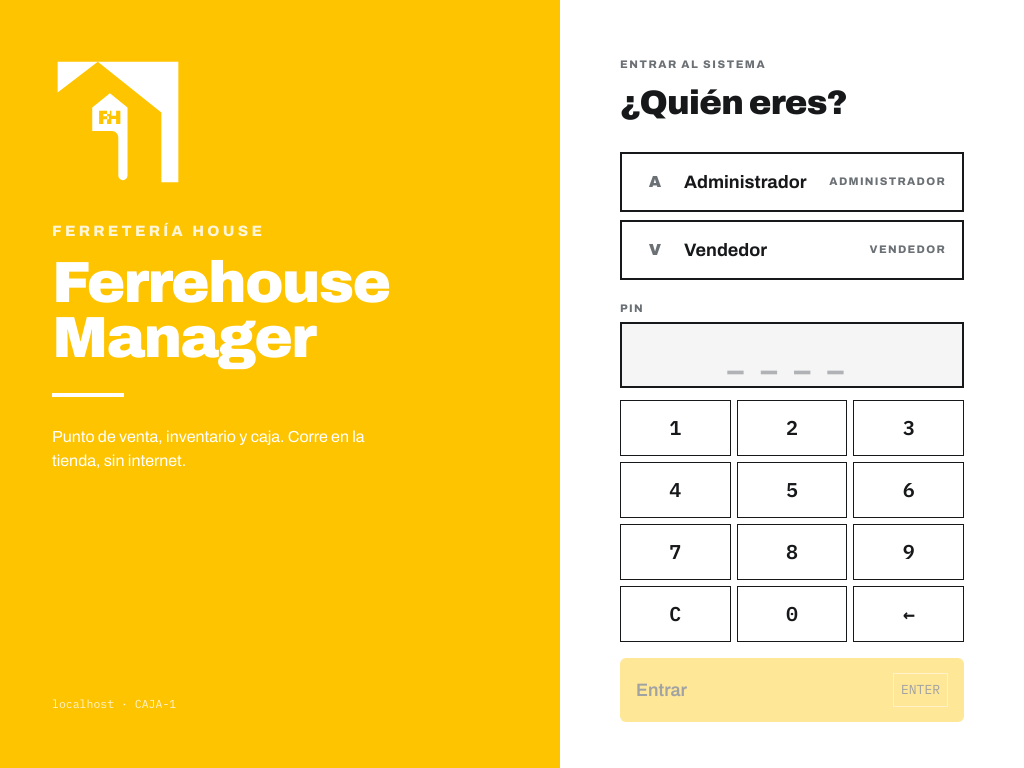
Test: el PIN › ignora lo que no sea dígito
Click the button "A Administrador administrador" at x=792, y=182, box [620,152,964,212]
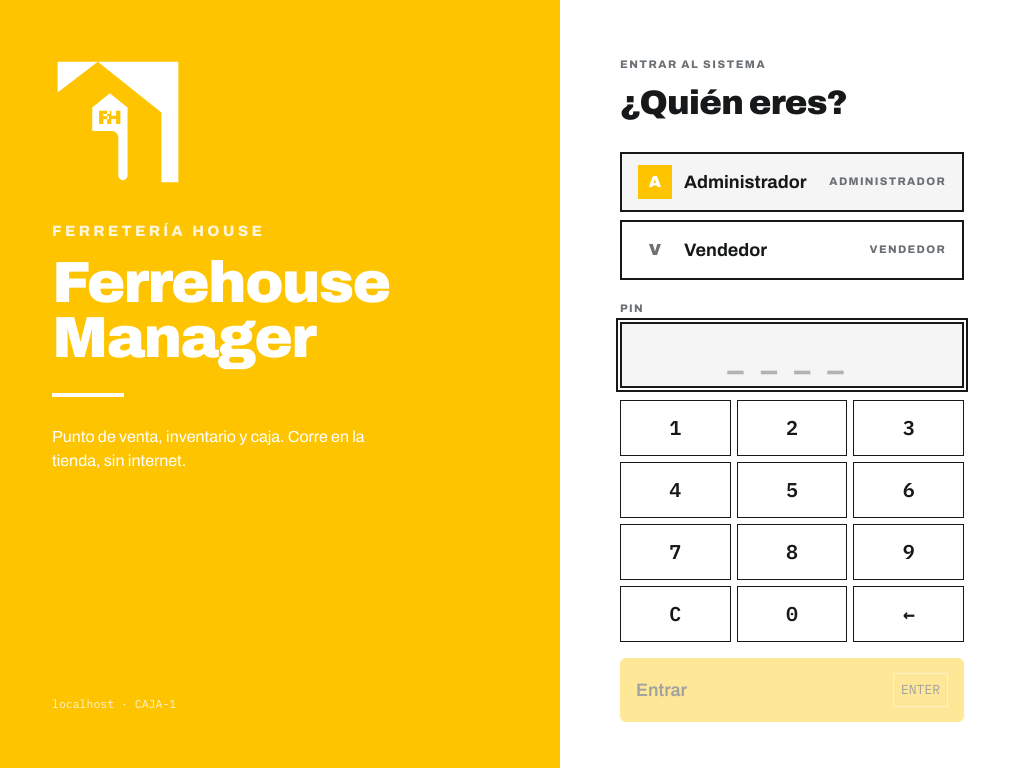
Type "12ab-3 4" into the password field named "PIN" at x=792, y=355, box [620,322,964,388]
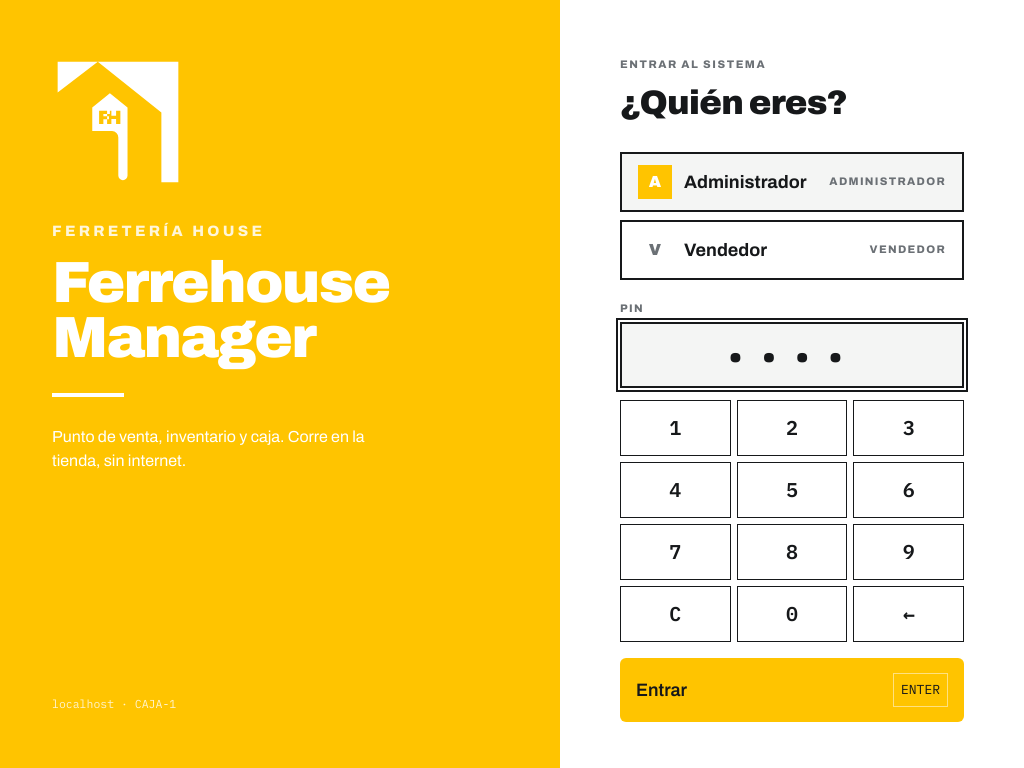
Result: the password field named "PIN" holds "1234" at [620,322,964,388]
